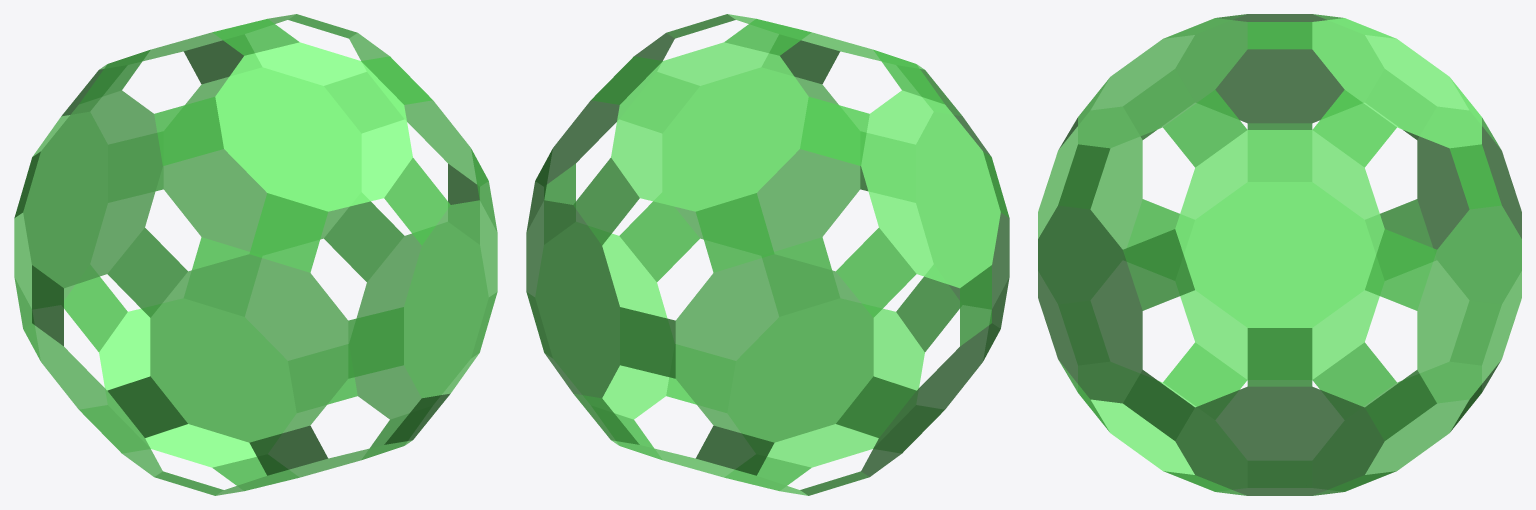
The model's file is TruncatedIcosidodecahedronA1.obj.
3 renders of one model, left to right at view 1: azimuth 30°, elevation 25°; view 2: azimuth 150°, elevation 25°; view 3: azimuth 270°, elevation 25°, orthographic.
Bounding box in the file's own units: 7.47 × 7.47 × 7.47.
